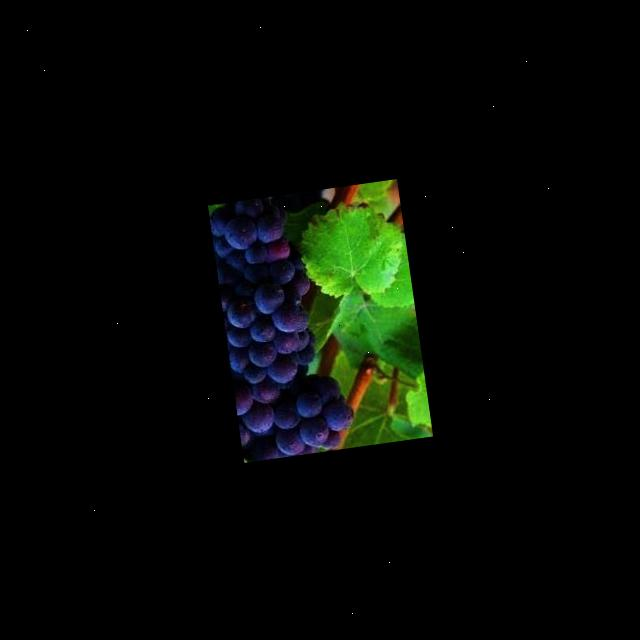grape: (208, 190, 358, 462)
